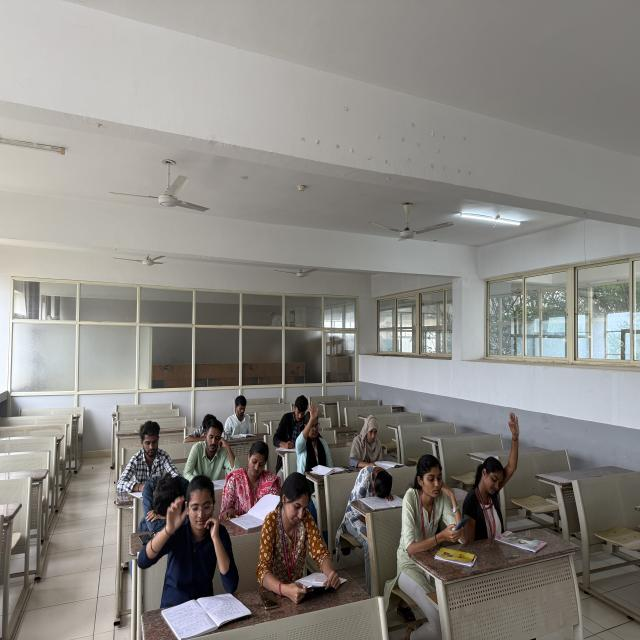Hand Rising: (465, 401, 528, 548), (288, 398, 337, 471)
Reading: (265, 478, 349, 603), (224, 437, 282, 527), (343, 411, 398, 466), (223, 395, 260, 440)
Sleeping: (134, 468, 190, 520), (342, 465, 398, 516)
Using Phone: (400, 453, 467, 552)
